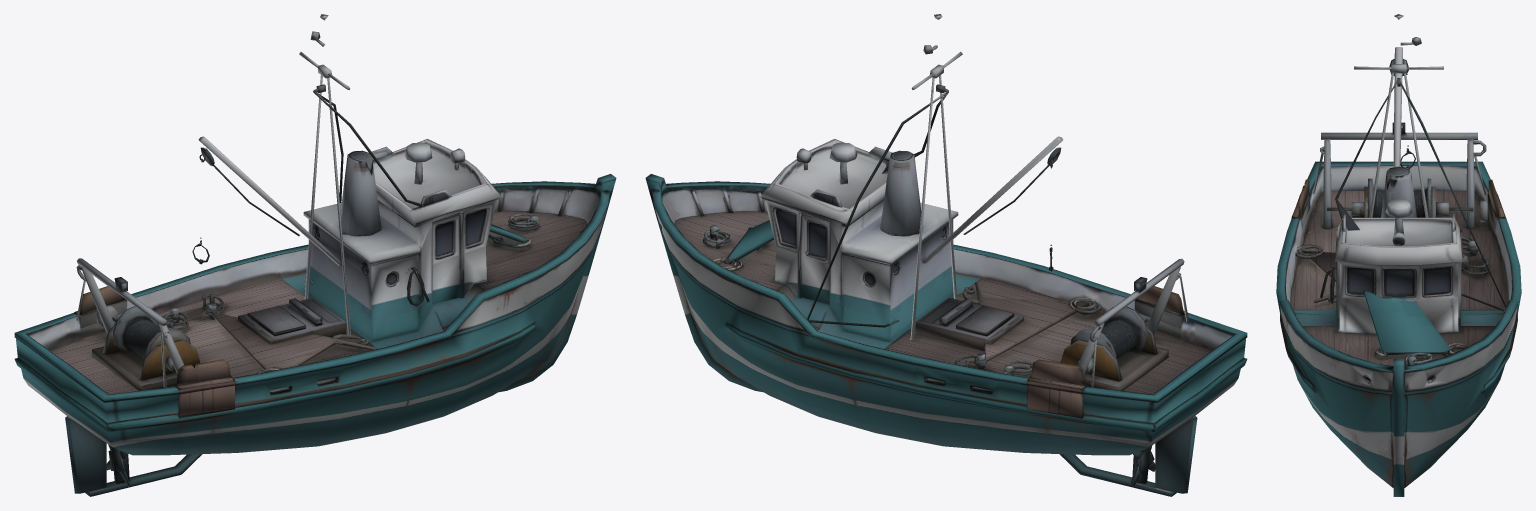
Rendered from original_glb.glb.
3 views of the same model, side by side, from view 1: azimuth 30°, elevation 25°; view 2: azimuth 150°, elevation 25°; view 3: azimuth 270°, elevation 25° (orthographic). The views are drawn at different scales.
Visible parts, largest first — view 1: Fishing Trawler; view 2: Fishing Trawler; view 3: Fishing Trawler.
Part boxes in pixels (left/top/right/bottom): Fishing Trawler: left=14, top=14, right=616, bottom=496; Fishing Trawler: left=645, top=14, right=1247, bottom=496; Fishing Trawler: left=1276, top=14, right=1521, bottom=496.
Size of the model in its own units: 0.998 by 0.7246 by 0.4082.
Materials: 1 (1 with a texture image).
